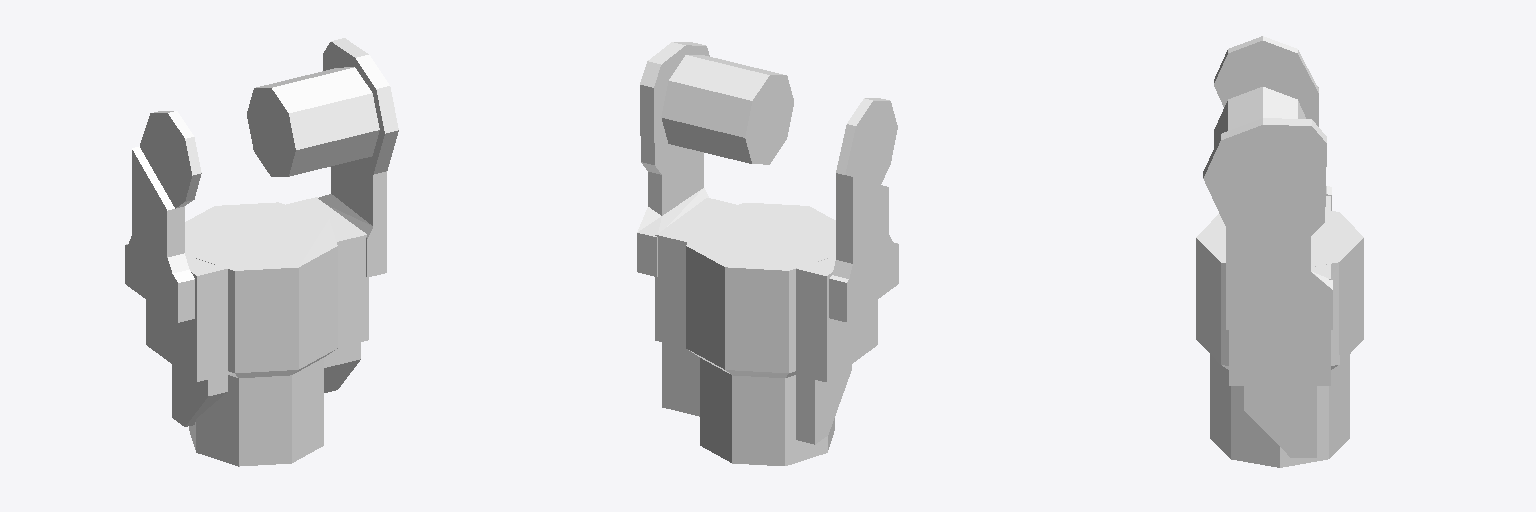
File: r_larm.obj
3 renders of one model, left to right at view 1: azimuth 30°, elevation 25°; view 2: azimuth 150°, elevation 25°; view 3: azimuth 270°, elevation 25°, orthographic.
Parts seen in each view (by area): view 1: drc_r_elbow_rx_drc_r_elbow_rxMesh; view 2: drc_r_elbow_rx_drc_r_elbow_rxMesh; view 3: drc_r_elbow_rx_drc_r_elbow_rxMesh.
Part boxes in pixels (x1,y1,x2,y2): drc_r_elbow_rx_drc_r_elbow_rxMesh: (125,38,398,466); drc_r_elbow_rx_drc_r_elbow_rxMesh: (637,42,898,465); drc_r_elbow_rx_drc_r_elbow_rxMesh: (1196,36,1363,467).
Bounding box in the file's own units: 0.1333 × 0.2219 × 0.0927.